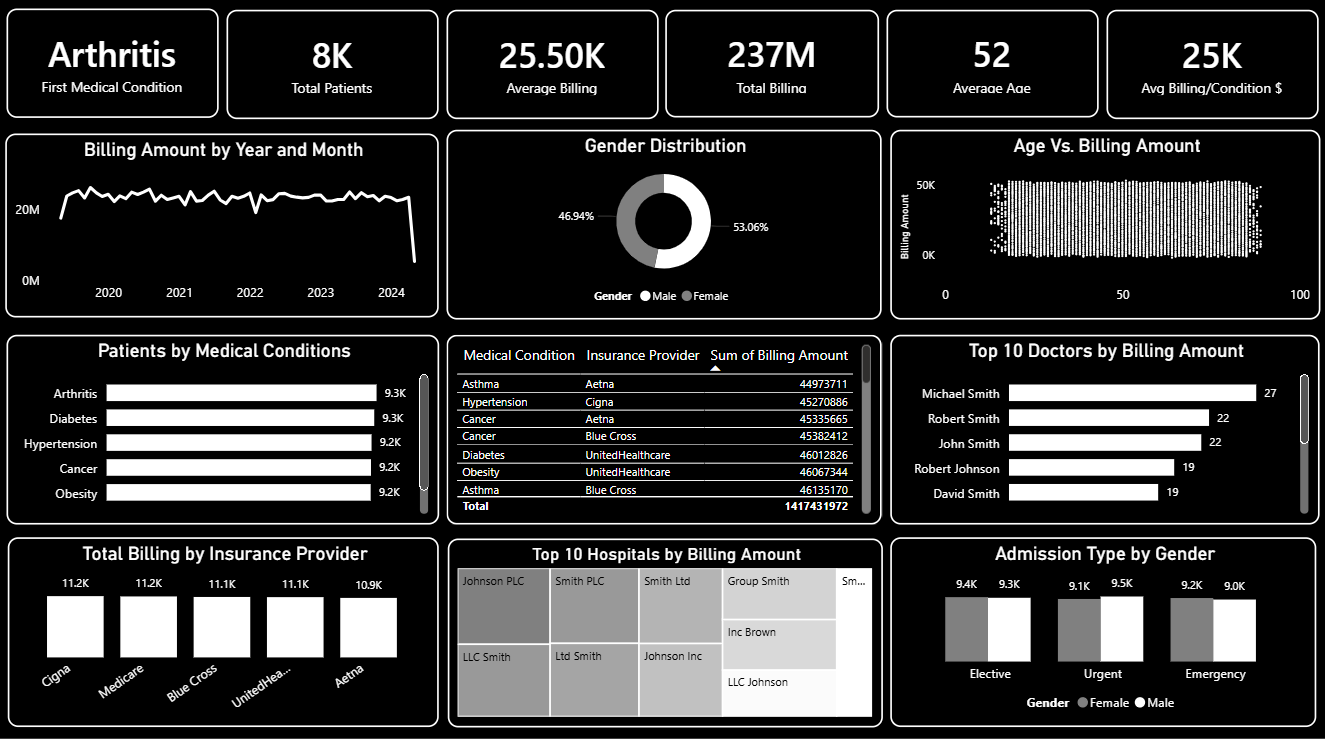

The page's visual inventory and layout, read from the dashboard file:
{"tool":"powerbi","page":{"name":"Dashboard","canvas":[1280,720],"ordinal":0},"visuals":[{"type":"cardVisual","fields":{"Data":["Min(healthcare_dataset.Medical Condition)"]},"box":[7.2,11.5,204.9,105.3],"z":0},{"type":"cardVisual","fields":{"Data":["healthcare_dataset.Total Patients"]},"box":[219.3,13,204.9,105.3],"z":1000},{"type":"cardVisual","fields":{"Data":["healthcare_dataset.Average Billing"]},"box":[431.4,13,204.9,105.3],"z":2000},{"type":"cardVisual","fields":{"Data":["healthcare_dataset.Toatal Billing"]},"box":[643.5,13,206.3,103.9],"z":3000},{"type":"cardVisual","fields":{"Data":["healthcare_dataset.Avg Age"]},"box":[857,13,204.9,103.9],"z":4000},{"type":"cardVisual","fields":{"Data":["healthcare_dataset.Avg Billing per Condition (Card)"]},"box":[1069.1,13,204.9,105.3],"z":5000},{"type":"lineChart","title":" Billing Amount by Year and Month","fields":{"Category":["healthcare_dataset.Date of Admission.Variation.Date Hierarchy.Year","healthcare_dataset.Date of Admission.Variation.Date Hierarchy.Month"],"Y":["Sum(healthcare_dataset.Billing Amount)"]},"box":[6.1,132.2,418.4,177.5],"z":6000},{"type":"barChart","title":"Patients by Medical Conditions","fields":{"Category":["healthcare_dataset.Medical Condition"],"Y":["Count(healthcare_dataset.Name)"]},"box":[7.2,326.9,417.4,183.4],"z":7000},{"type":"clusteredColumnChart","title":"Total Billing by Insurance Provider","fields":{"Category":["healthcare_dataset.Insurance Provider"],"Y":["Sum(healthcare_dataset.Billing Amount)"]},"box":[8.4,522.6,416.2,183.4],"z":8000},{"type":"barChart","title":"Top 10 Doctors by Billing Amount","fields":{"Category":["healthcare_dataset.Doctor"],"Y":["Sum(healthcare_dataset.Billing Amount)"]},"box":[860.2,326.6,414.1,183.2],"z":9000},{"type":"clusteredColumnChart","title":"Admission Type by Gender","fields":{"Category":["healthcare_dataset.Admission Type"],"Series":["healthcare_dataset.Gender"],"Y":["CountNonNull(healthcare_dataset.Name)"]},"box":[860.2,522.6,411.4,183.4],"z":10000},{"type":"donutChart","title":"Gender Distribution ","fields":{"Category":["healthcare_dataset.Gender"],"Y":["CountNonNull(healthcare_dataset.Name)"]},"box":[432.4,129.3,419.8,183.2],"z":11000},{"type":"scatterChart","title":"Age Vs. Billing Amount","fields":{"X":["healthcare_dataset.Age"],"Y":["healthcare_dataset.Billing Amount"]},"box":[860.2,129.3,415.5,183.2],"z":12000},{"type":"treemap","title":"Top 10 Hospitals by Billing Amount","fields":{"Group":["healthcare_dataset.Hospital"],"Values":["Sum(healthcare_dataset.Billing Amount)"]},"box":[432.5,523.2,419.8,182.2],"z":13000},{"type":"tableEx","fields":{"Values":["healthcare_dataset.Medical Condition","healthcare_dataset.Insurance Provider","healthcare_dataset.Billing Amount"]},"box":[432.3,326.7,420,183],"z":14000}]}

Visuals, with their boxes in screenshot pixels (x1, y1, x2, y2), scaled from the page's 1280x720 canvas onto the 1325x739 screenshot:
cardVisual - Min(healthcare_dataset.Medical Condition): left=7, top=12, right=220, bottom=120
cardVisual - healthcare_dataset.Total Patients: left=227, top=13, right=439, bottom=121
cardVisual - healthcare_dataset.Average Billing: left=447, top=13, right=659, bottom=121
cardVisual - healthcare_dataset.Toatal Billing: left=666, top=13, right=880, bottom=120
cardVisual - healthcare_dataset.Avg Age: left=887, top=13, right=1099, bottom=120
cardVisual - healthcare_dataset.Avg Billing per Condition (Card): left=1107, top=13, right=1319, bottom=121
" Billing Amount by Year and Month" lineChart: left=6, top=136, right=439, bottom=318
"Patients by Medical Conditions" barChart: left=7, top=336, right=440, bottom=524
"Total Billing by Insurance Provider" clusteredColumnChart: left=9, top=536, right=440, bottom=725
"Top 10 Doctors by Billing Amount" barChart: left=890, top=335, right=1319, bottom=523
"Admission Type by Gender" clusteredColumnChart: left=890, top=536, right=1316, bottom=725
"Gender Distribution " donutChart: left=448, top=133, right=882, bottom=321
"Age Vs. Billing Amount" scatterChart: left=890, top=133, right=1321, bottom=321
"Top 10 Hospitals by Billing Amount" treemap: left=448, top=537, right=882, bottom=724
tableEx - healthcare_dataset.Medical Condition x healthcare_dataset.Insurance Provider: left=447, top=335, right=882, bottom=523
